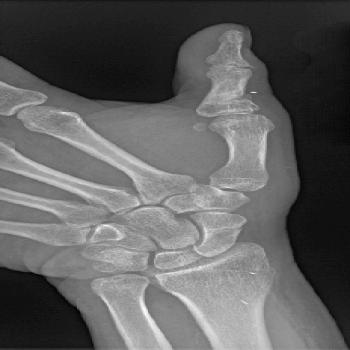Fracture: (220, 89, 260, 105)
